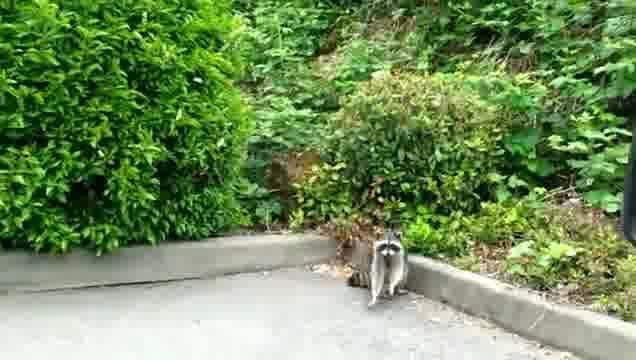raccoon: (348, 232, 411, 308)
